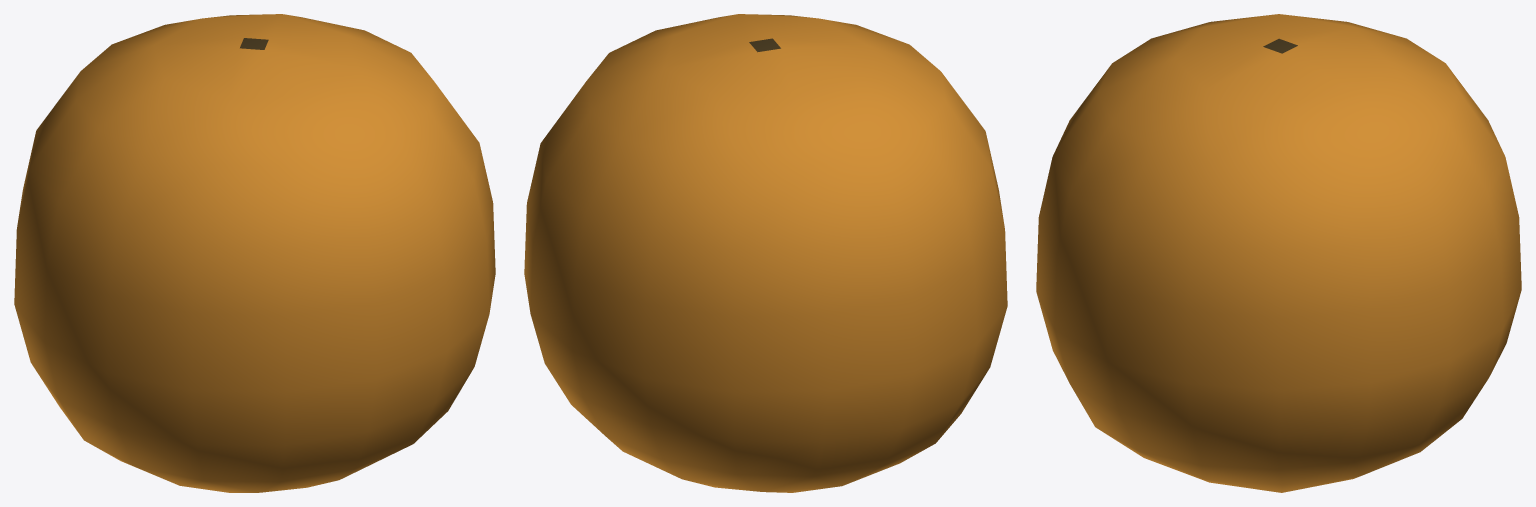
The model's file is Orange.fbx.
The picture shows the model from 3 angles, left to right: view 1: azimuth 30°, elevation 25°; view 2: azimuth 150°, elevation 25°; view 3: azimuth 270°, elevation 25°; orthographic projection.
Visible parts, largest first — view 1: Orange1; view 2: Orange1; view 3: Orange1.
Part boxes in pixels (x1=…): Orange1: x1=14, y1=14, x2=495, y2=492; Orange1: x1=524, y1=14, x2=1007, y2=492; Orange1: x1=1036, y1=14, x2=1521, y2=492.
Size of the model in its own units: 1.09 by 1.03 by 1.09.
